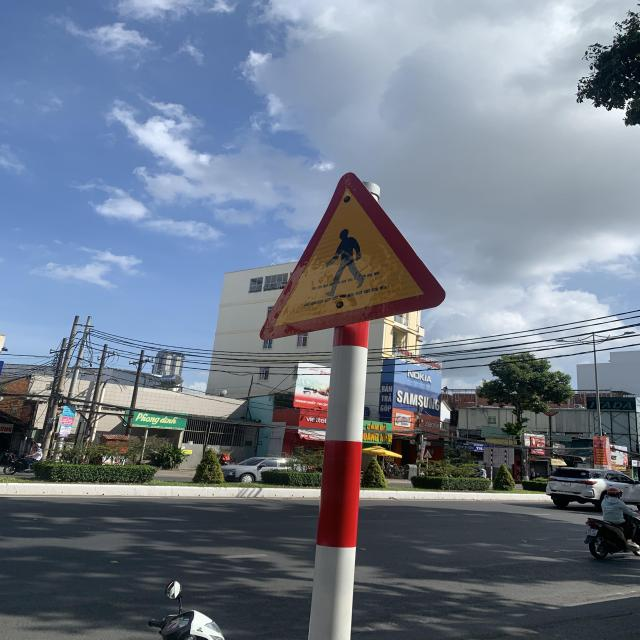Duong_Nguoi_Di_Bo_Sang_Ngang: (257, 172, 449, 340)
